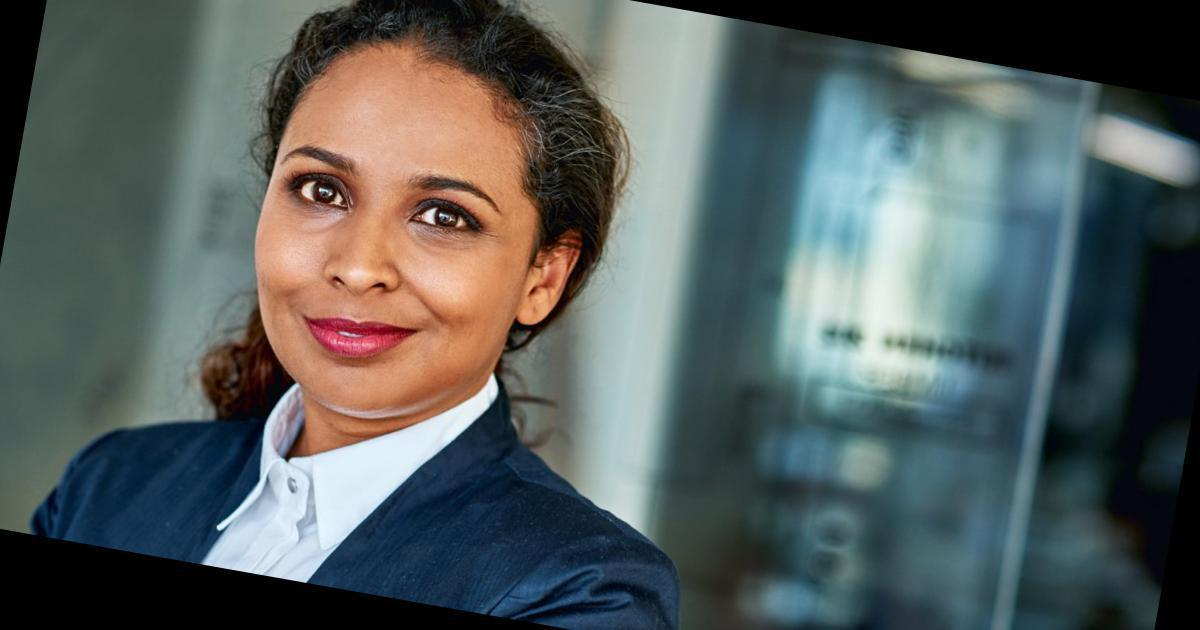Sober: (269, 96, 513, 404)
